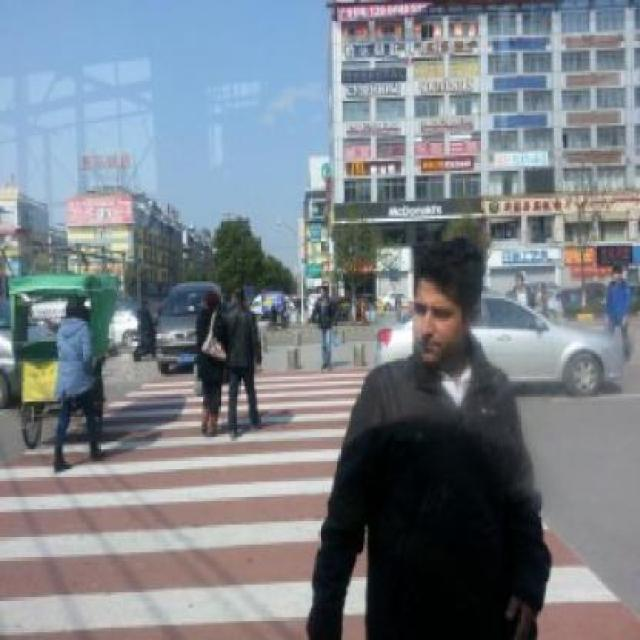Person: (317, 240, 548, 638), (52, 300, 110, 469), (225, 290, 263, 441), (196, 292, 224, 440)
